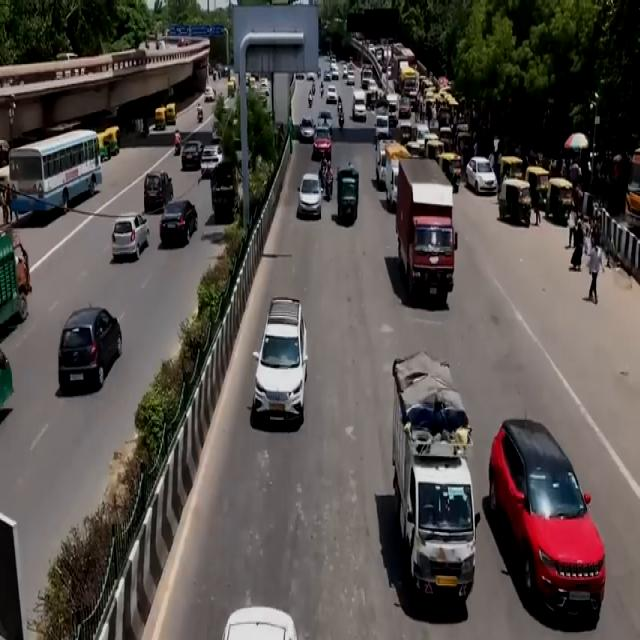BUS: (10, 127, 106, 220)
SUV: (495, 418, 608, 611), (254, 290, 305, 425)
TRUCK: (393, 352, 478, 616), (395, 160, 458, 310)
